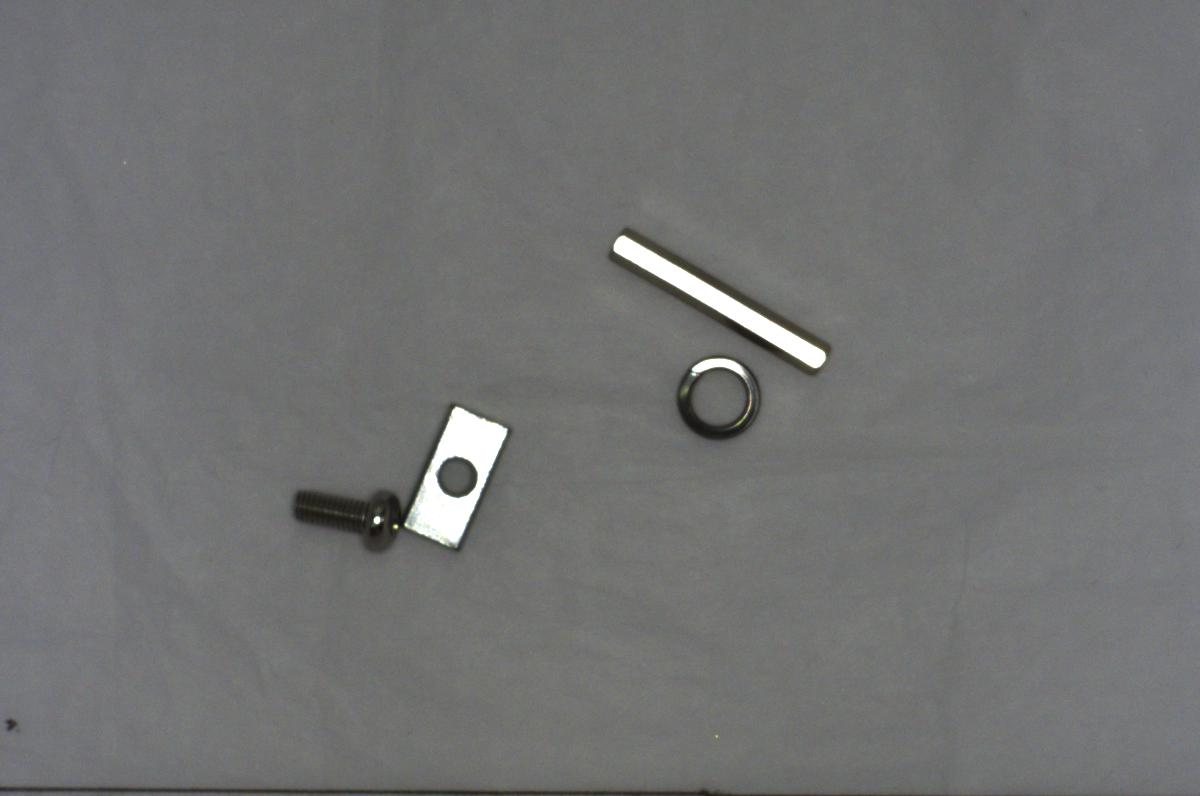Double hexagonal column: (605, 221, 838, 372)
Rectangular nut: (395, 398, 514, 558)
Round head screw: (285, 479, 405, 556)
Spring washer: (670, 352, 767, 441)
